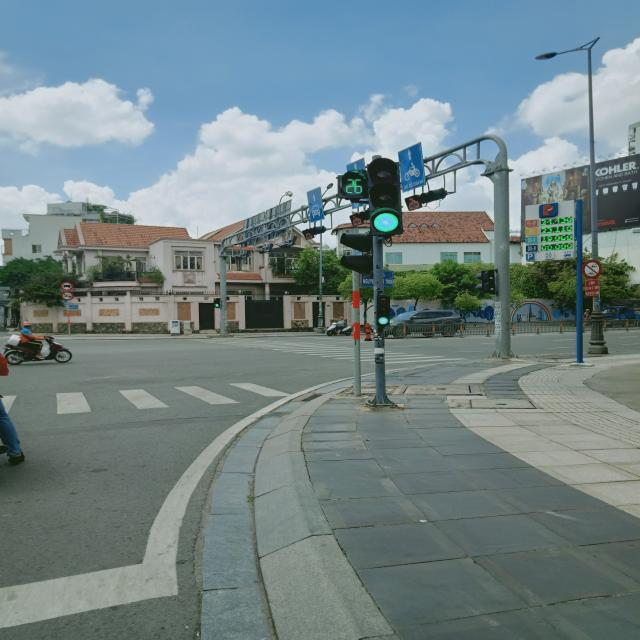Green: (356, 152, 408, 238), (367, 291, 395, 328)
